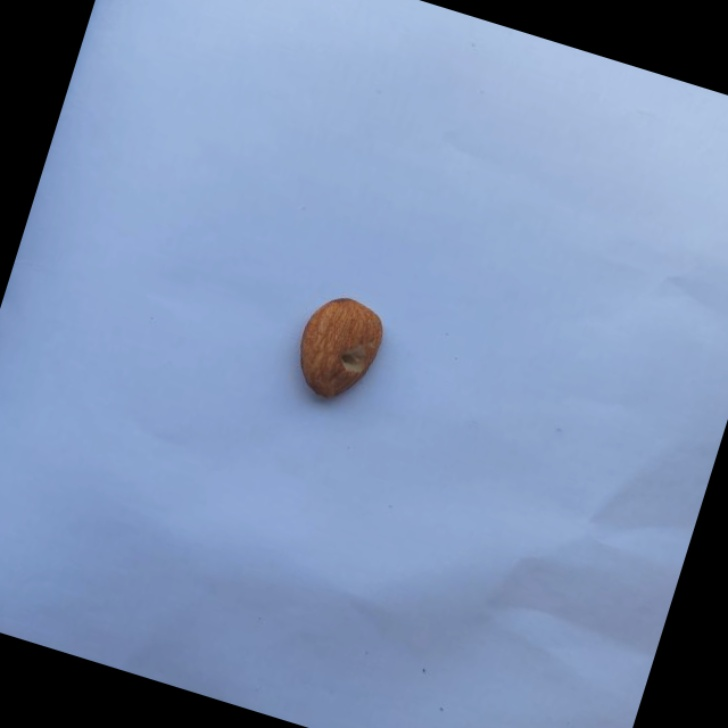grade3: (283, 283, 398, 416)
